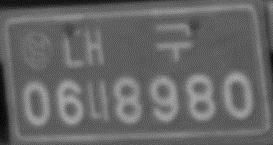0: (222, 71, 255, 120), (22, 79, 52, 127)
6: (56, 79, 84, 125)
8: (112, 77, 144, 124), (185, 73, 216, 121)
9: (149, 75, 180, 122)
나: (85, 78, 112, 125)
대구_D: (61, 20, 195, 68)
영: (19, 30, 55, 71)
